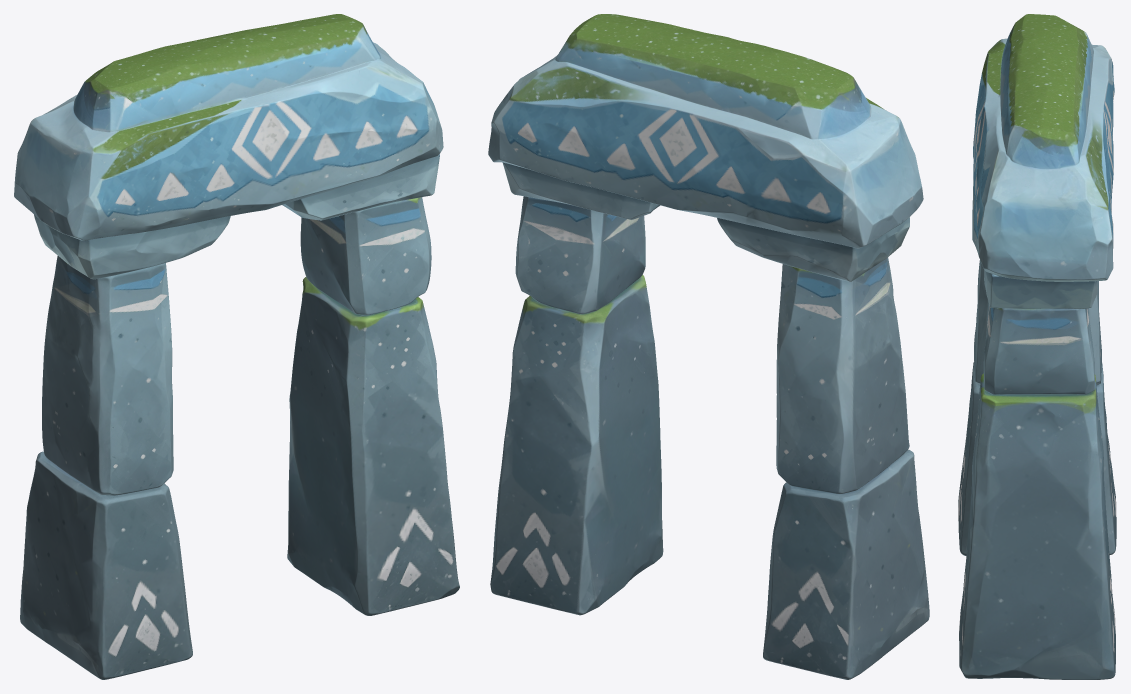
The model's file is Meshy_AI_SkyStoneArchGate3D_20261123_image-to-3d-texture.fbx.
3 views of the same model, side by side, from view 1: azimuth 30°, elevation 25°; view 2: azimuth 150°, elevation 25°; view 3: azimuth 270°, elevation 25° (orthographic). The views are drawn at different scales.
Parts seen in each view (by area): view 1: Mesh_0; view 2: Mesh_0; view 3: Mesh_0.
Part boxes in pixels (<box>): Mesh_0: <box>14,14,459,679</box>; Mesh_0: <box>488,14,929,679</box>; Mesh_0: <box>958,14,1116,679</box>.
Size of the model in its own units: 135 by 190 by 51.48.
Materials: 1 (1 with a texture image).
